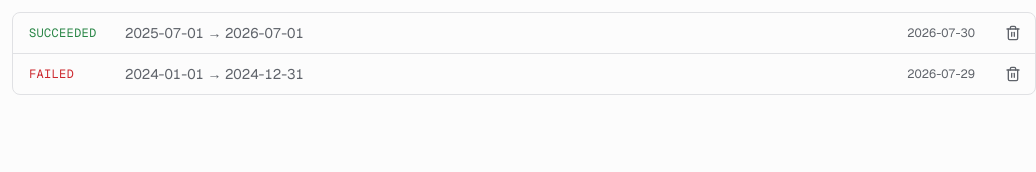
Test case: BacktestList delete › cancel abandons the delete
The width and height of the screenshot is (1036, 172).
Click the button named "delete backtest": (1013, 33) 999,19 -> 1027,47
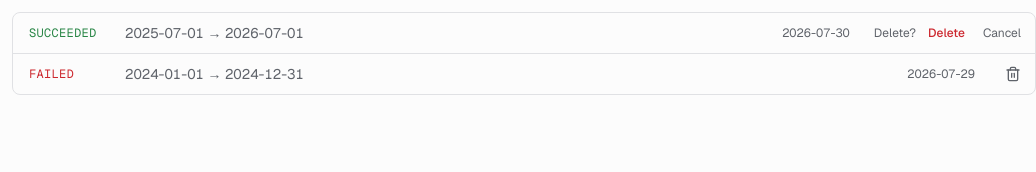
Click the button "Cancel": (1002, 33) 977,23 -> 1027,43
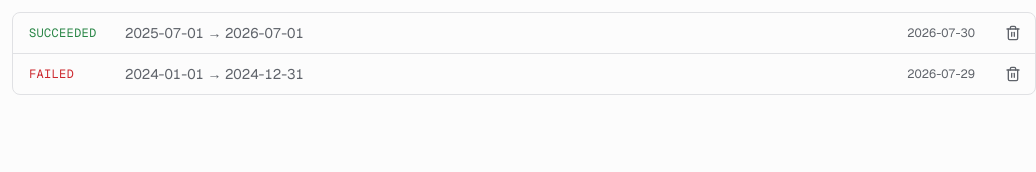
Expected: the text "Delete?" is gone
